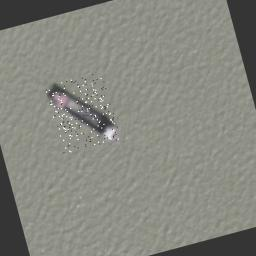boat: (44, 71, 120, 154)
